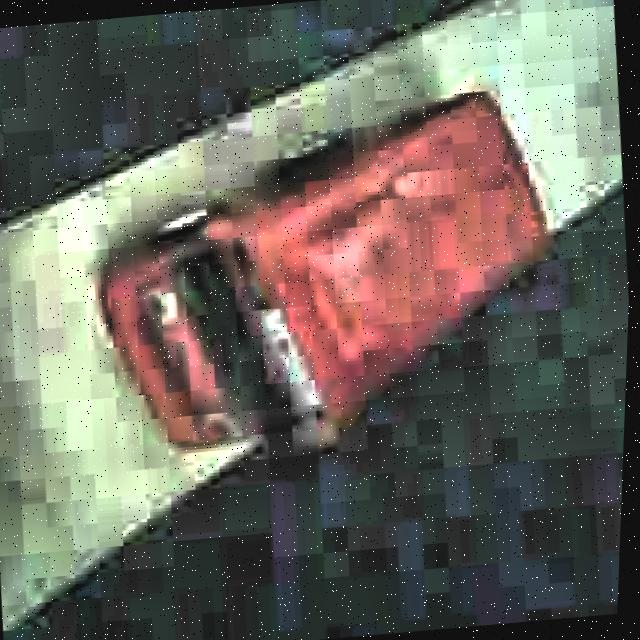bus: (69, 83, 573, 460)
